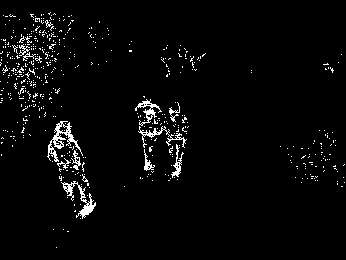person: (44, 118, 97, 220), (131, 91, 164, 173), (169, 97, 197, 181)
